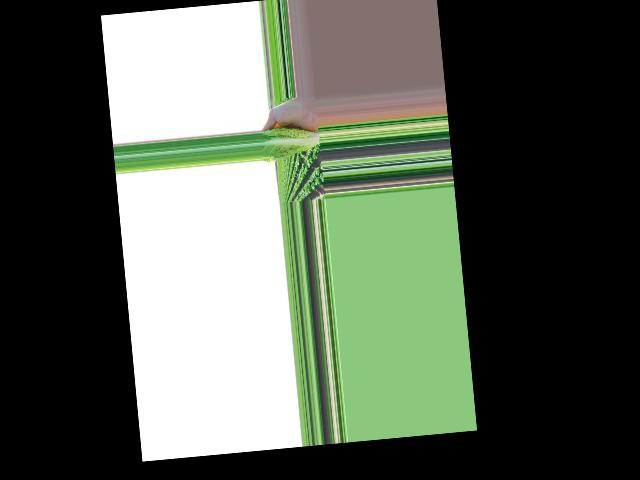lettuce: (262, 125, 322, 160)
